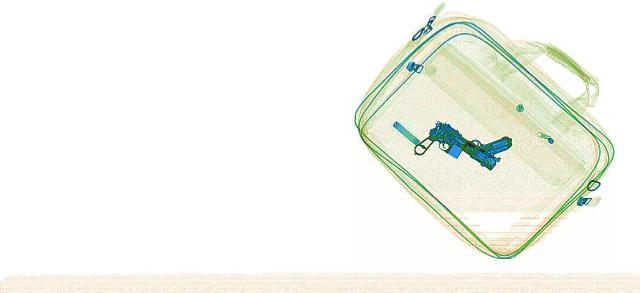Gun: (432, 120, 538, 169), (383, 120, 491, 167)
